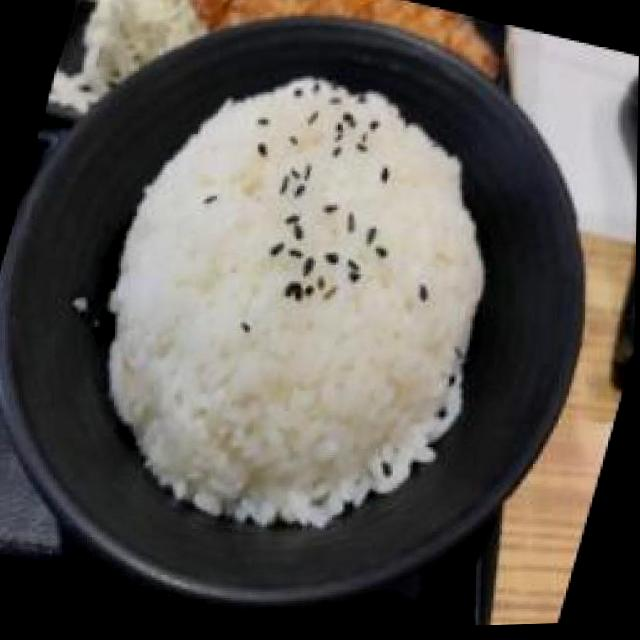rice: (46, 27, 546, 582)
